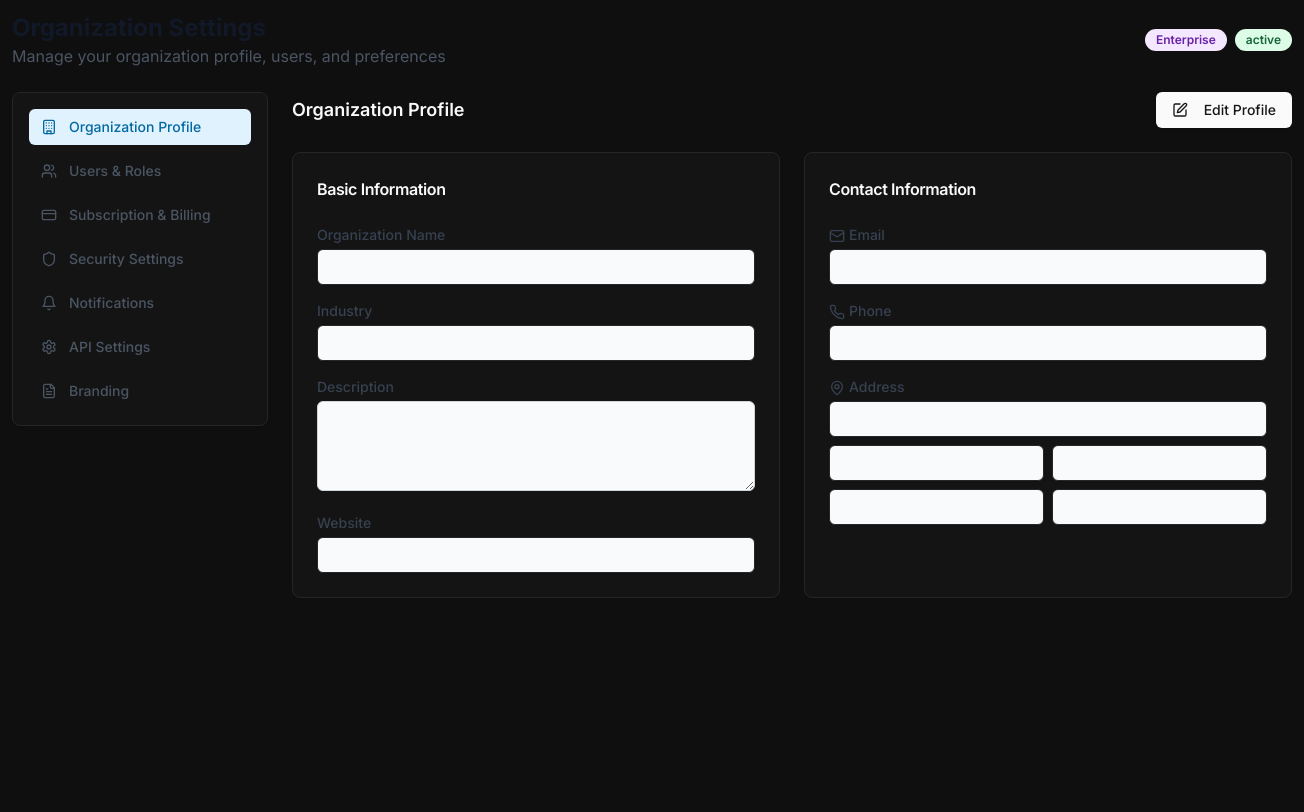
OrganizationSettingsPage › Organization Profile Editing › should show success message after save
Note: Enter edit mode and save
Click the button "Edit Profile": (1224,110) [1156,92,1292,128]
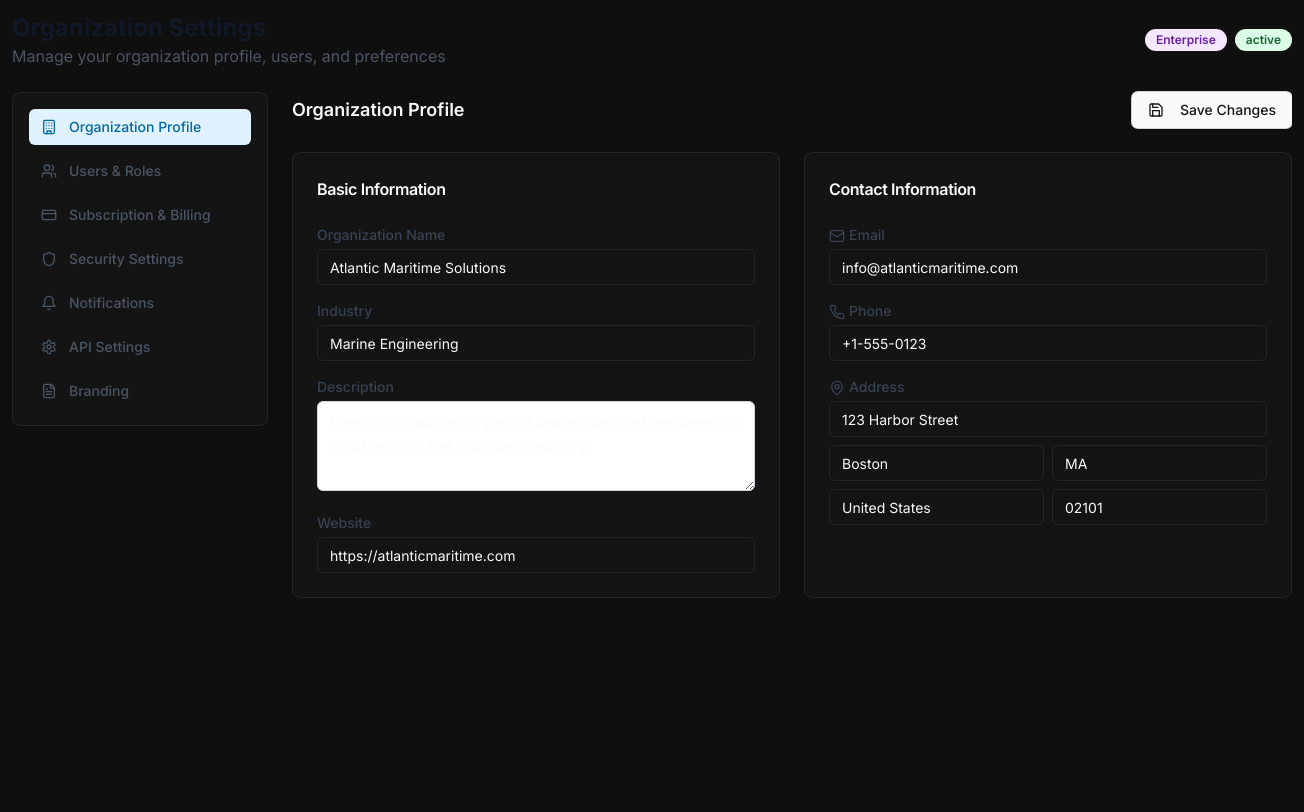
Click the button "Save Changes": (1212,110) [1132,92,1292,128]
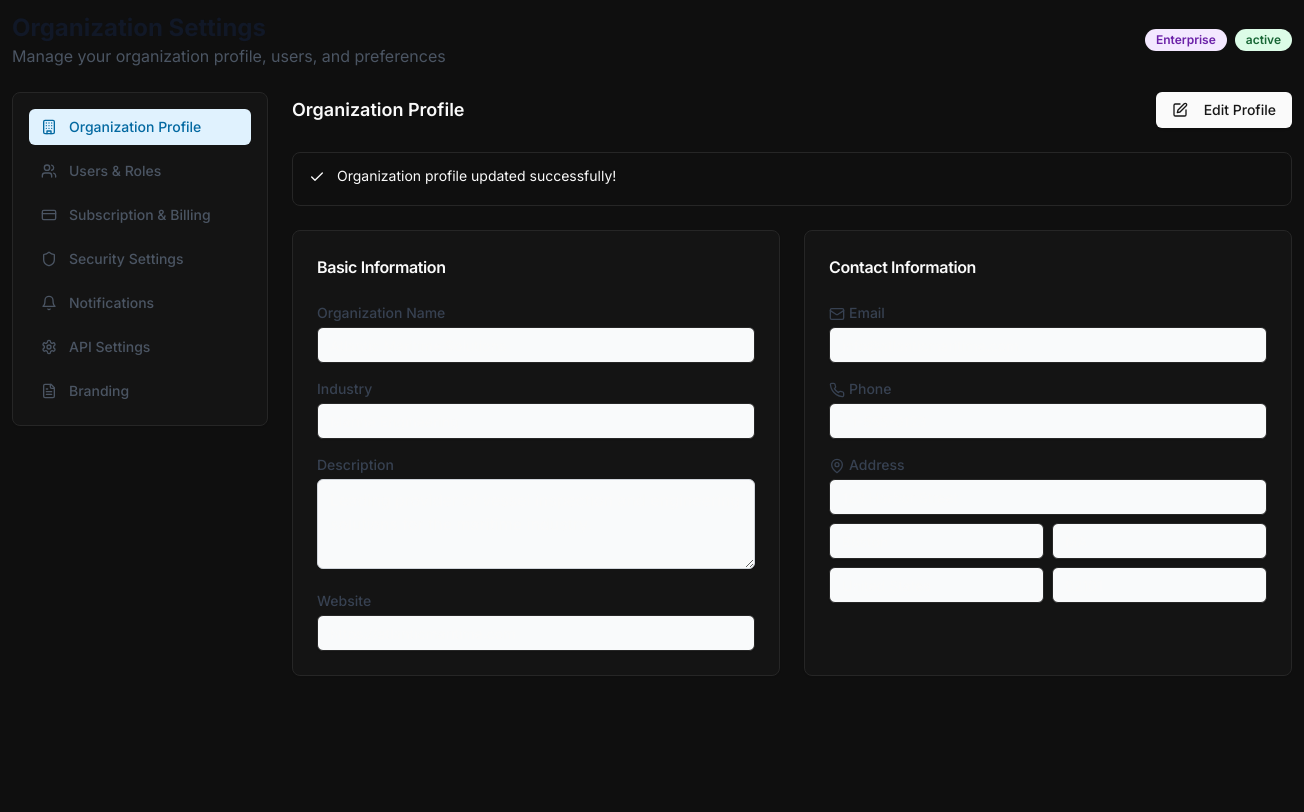
Result: the text "Organization profile updated successfully!" is shown at [337,167,616,184]
